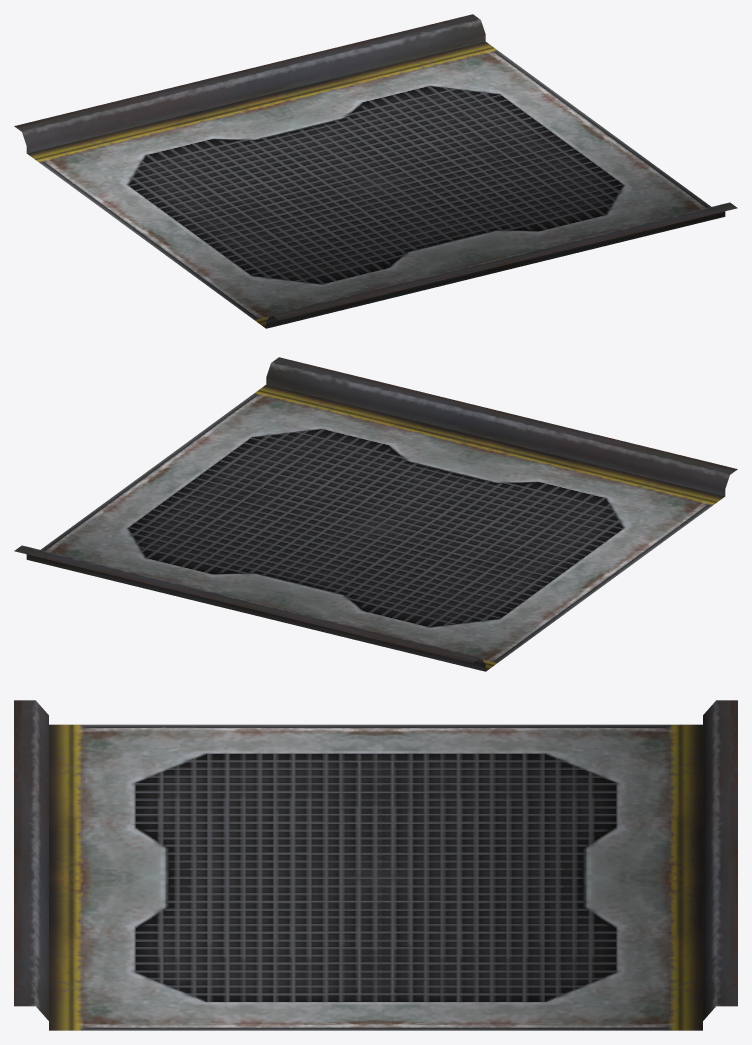
File: MESH_CORREDOR_GROUND_NORMAL.fbx
3 renders of one model, top to bottom at view 1: azimuth 30°, elevation 25°; view 2: azimuth 150°, elevation 25°; view 3: azimuth 270°, elevation 25°, orthographic. The views are drawn at different scales.
Parts seen in each view (by area): view 1: MESH CORREDOR_GROUND_NORMAL; view 2: MESH CORREDOR_GROUND_NORMAL; view 3: MESH CORREDOR_GROUND_NORMAL.
Boxes of the visible parts, x1,y1,x2,y2 form: MESH CORREDOR_GROUND_NORMAL: (14, 14, 737, 328); MESH CORREDOR_GROUND_NORMAL: (14, 357, 737, 671); MESH CORREDOR_GROUND_NORMAL: (14, 700, 737, 1030).
Bounding box in the file's own units: 4 × 0.15 × 4.
